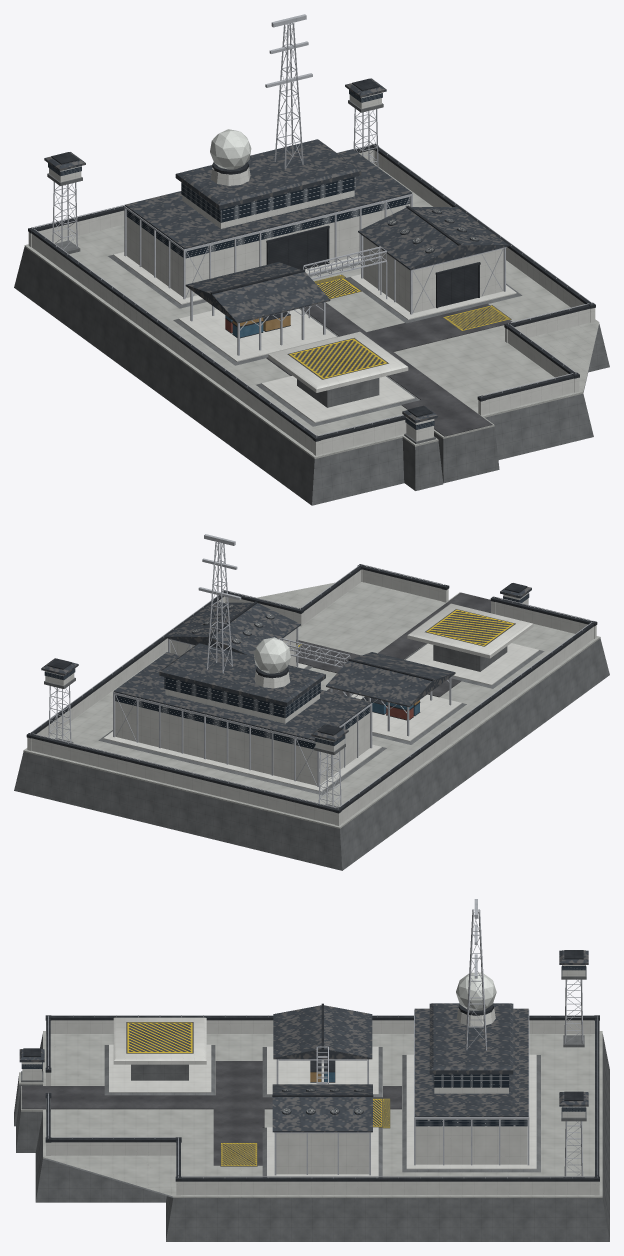
File: naval_command_lvl3.glb
The picture shows the model from 3 angles, top to bottom: view 1: azimuth 30°, elevation 25°; view 2: azimuth 150°, elevation 25°; view 3: azimuth 270°, elevation 25°; orthographic projection. The views are drawn at different scales.
Visible parts, largest first — view 1: NVC_L3_ConcLight, NVC_L3_ConcDark, NVC_L3_RoofCorr, NVC_L3_ConcMid, NVC_L3_SteelTruss, NVC_L3_SteelDark, NVC_L3_Asphalt, NVC_L3_WindowDark, NVC_L3_HatchZone, NVC_L3_DoorCorr, NVC_L3_Radome; view 2: NVC_L3_ConcLight, NVC_L3_ConcDark, NVC_L3_ConcMid, NVC_L3_RoofCorr, NVC_L3_SteelTruss, NVC_L3_SteelDark, NVC_L3_WindowDark, NVC_L3_Asphalt, NVC_L3_HatchZone, NVC_L3_Radome; view 3: NVC_L3_ConcLight, NVC_L3_ConcDark, NVC_L3_ConcMid, NVC_L3_RoofCorr, NVC_L3_Asphalt, NVC_L3_SteelDark, NVC_L3_SteelTruss, NVC_L3_HatchZone, NVC_L3_WindowDark, NVC_L3_Radome.
Part boxes in pixels (<box>): NVC_L3_ConcLight: <box>28,92,595,455</box>; NVC_L3_ConcDark: <box>14,100,609,505</box>; NVC_L3_RoofCorr: <box>44,78,508,423</box>; NVC_L3_ConcMid: <box>24,163,599,458</box>; NVC_L3_SteelTruss: <box>31,14,592,437</box>; NVC_L3_SteelDark: <box>28,78,595,441</box>; NVC_L3_Asphalt: <box>266,302,512,436</box>; NVC_L3_WindowDark: <box>48,90,434,429</box>; NVC_L3_HatchZone: <box>287,274,511,379</box>; NVC_L3_DoorCorr: <box>269,229,477,307</box>; NVC_L3_Radome: <box>210,129,251,169</box>; NVC_L3_ConcLight: <box>27,569,596,825</box>; NVC_L3_ConcDark: <box>14,638,609,870</box>; NVC_L3_ConcMid: <box>23,582,600,828</box>; NVC_L3_RoofCorr: <box>41,583,531,741</box>; NVC_L3_SteelTruss: <box>30,534,593,809</box>; NVC_L3_SteelDark: <box>26,564,597,813</box>; NVC_L3_WindowDark: <box>44,593,529,749</box>; NVC_L3_Asphalt: <box>296,592,490,697</box>; NVC_L3_HatchZone: <box>296,609,515,647</box>; NVC_L3_Radome: <box>253,637,290,673</box>; NVC_L3_ConcLight: <box>22,965,599,1195</box>; NVC_L3_ConcDark: <box>14,966,609,1241</box>; NVC_L3_ConcMid: <box>19,1031,602,1197</box>; NVC_L3_RoofCorr: <box>19,950,588,1132</box>; NVC_L3_Asphalt: <box>21,1061,401,1165</box>; NVC_L3_SteelDark: <box>23,950,599,1181</box>; NVC_L3_SteelTruss: <box>48,899,597,1178</box>; NVC_L3_HatchZone: <box>126,1022,390,1166</box>; NVC_L3_WindowDark: <box>21,965,585,1126</box>; NVC_L3_Radome: <box>456,972,496,1010</box>.
Bounding box in the file's own units: 87.5 × 61.6 × 128.
15 materials, 15 textured.
